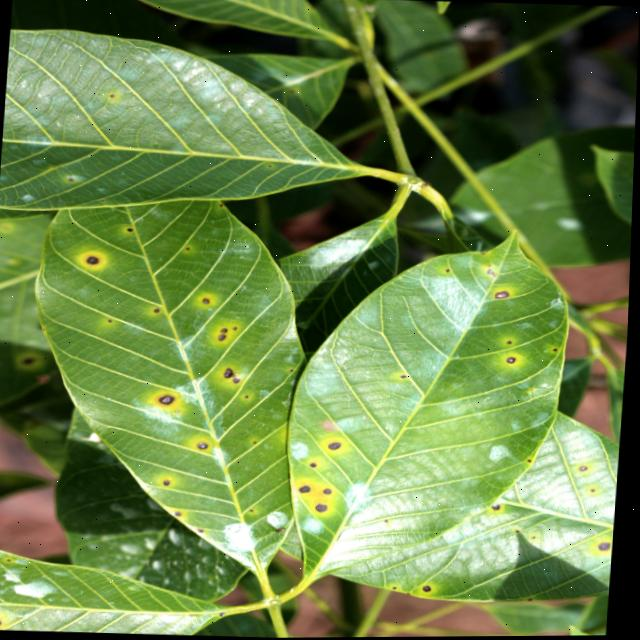Colletotrichum: (160, 394, 176, 404), (330, 442, 343, 450), (601, 543, 614, 551), (496, 292, 510, 299), (88, 256, 100, 264), (224, 370, 235, 378), (318, 505, 330, 512), (301, 486, 313, 492), (199, 443, 211, 449), (507, 357, 517, 363), (495, 504, 503, 511), (425, 586, 434, 592), (0, 618, 6, 626), (220, 334, 227, 340), (582, 467, 590, 472), (203, 299, 210, 304), (326, 490, 334, 494), (166, 481, 172, 485), (222, 329, 228, 333)
